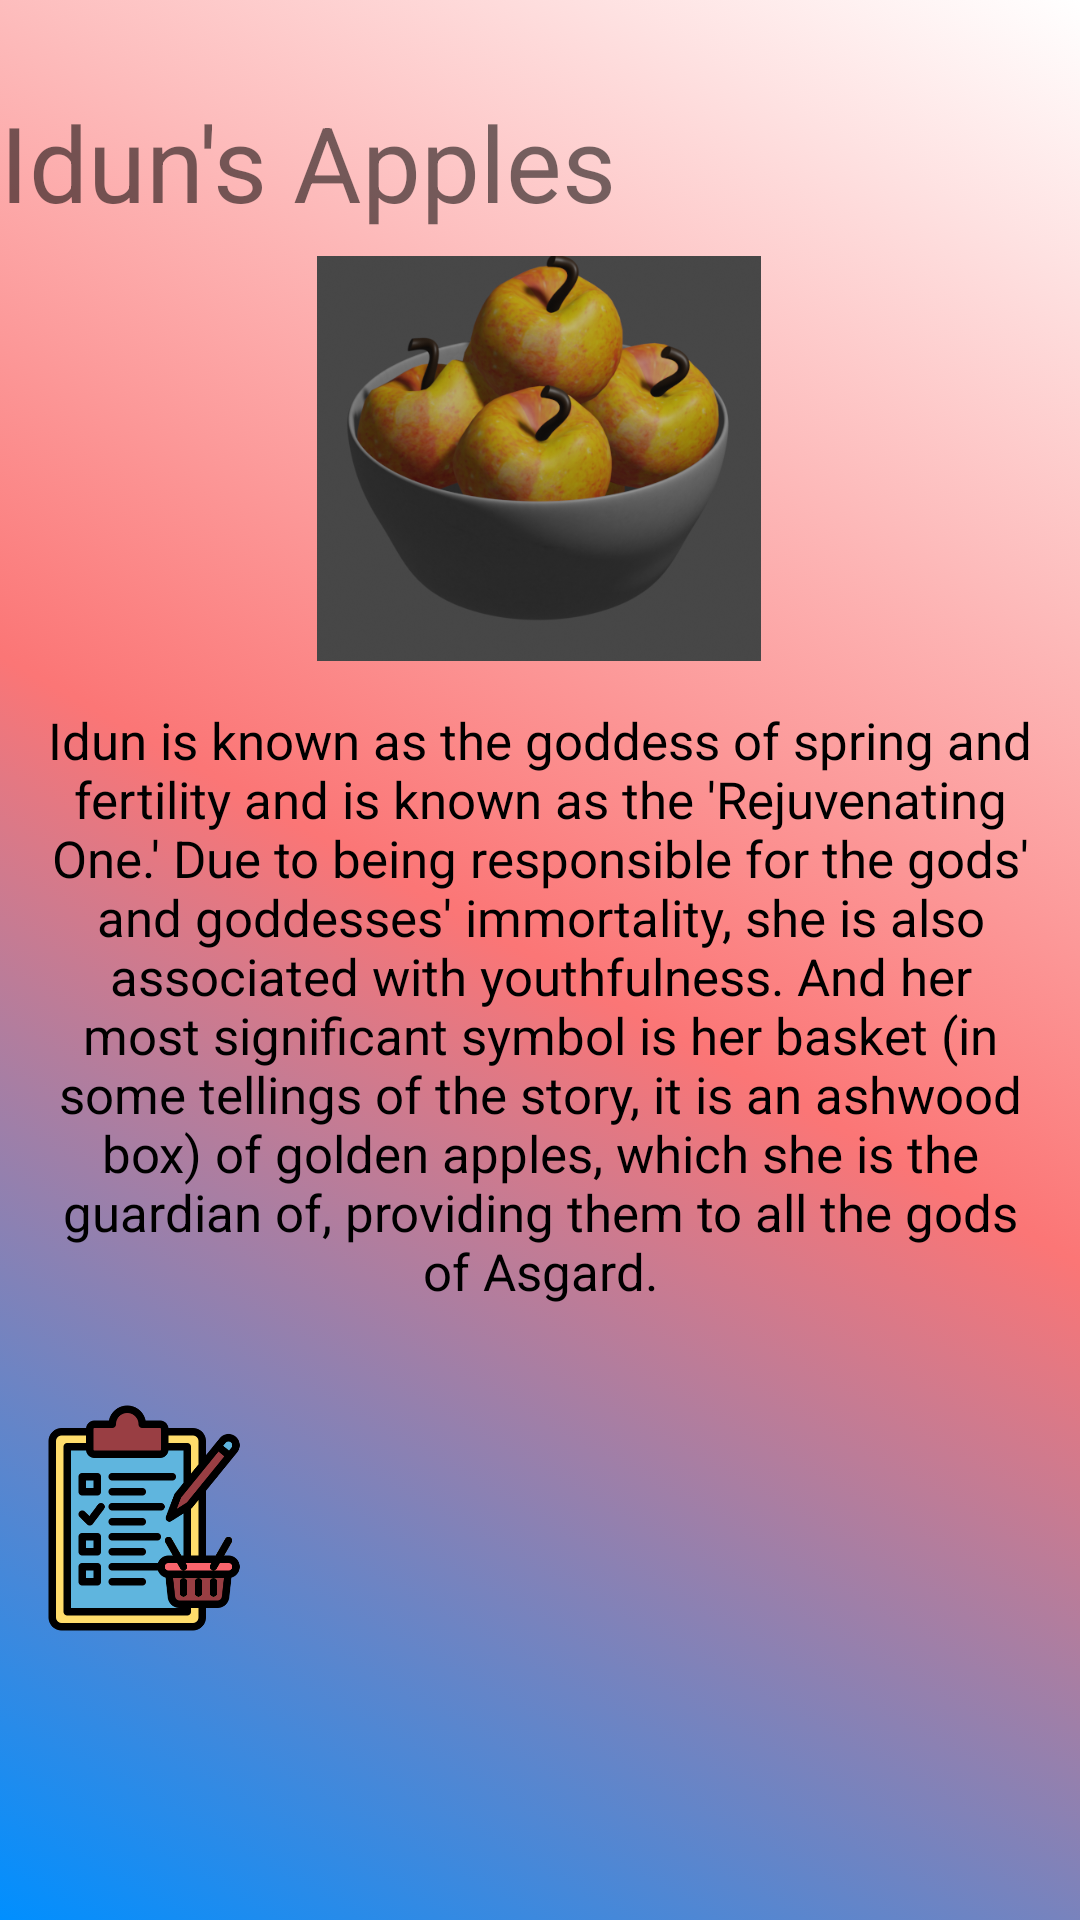

Named icons in this screenshot (1080*1920) and their centers, [x,y]:
shopping: [145,1518]
